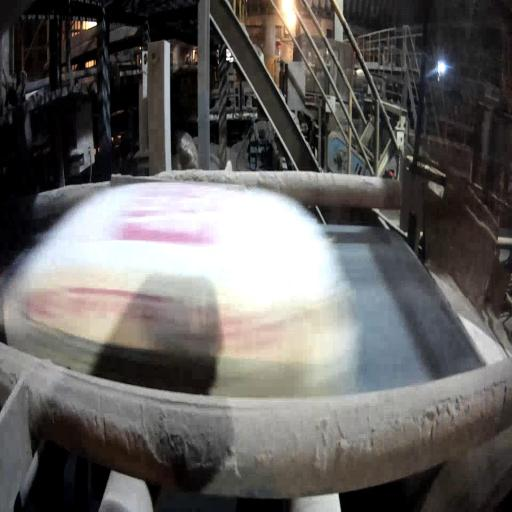c-belt-sack-count: (4, 183, 357, 396)
